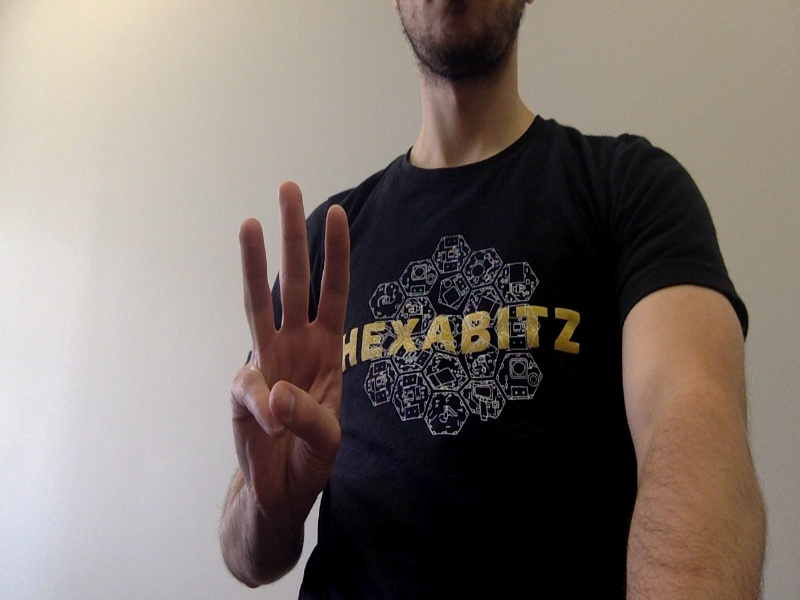3-hand: (231, 182, 350, 500)
